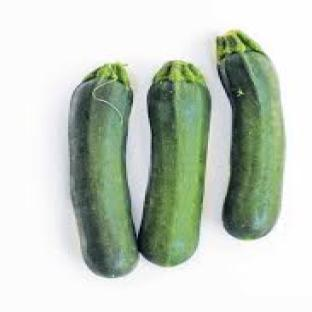Zucchini: (69, 64, 138, 276), (139, 62, 209, 265), (217, 31, 284, 239)
